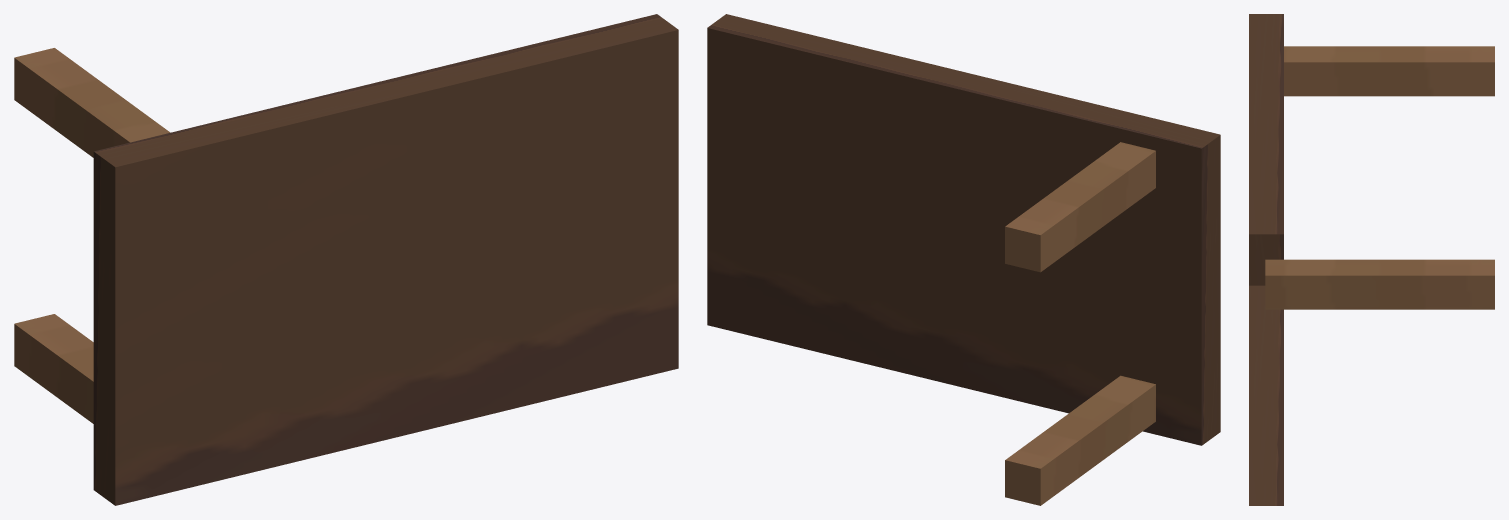
Rendered from pz_benche_seating_indoor_03_wooden_0_0.obj.
3 views of the same model, side by side, from view 1: azimuth 30°, elevation 25°; view 2: azimuth 150°, elevation 25°; view 3: azimuth 270°, elevation 25° (orthographic). The views are drawn at different scales.
Size of the model in its own units: 0.975 by 0.56 by 0.4593.
Materials: 1 (1 with a texture image).
